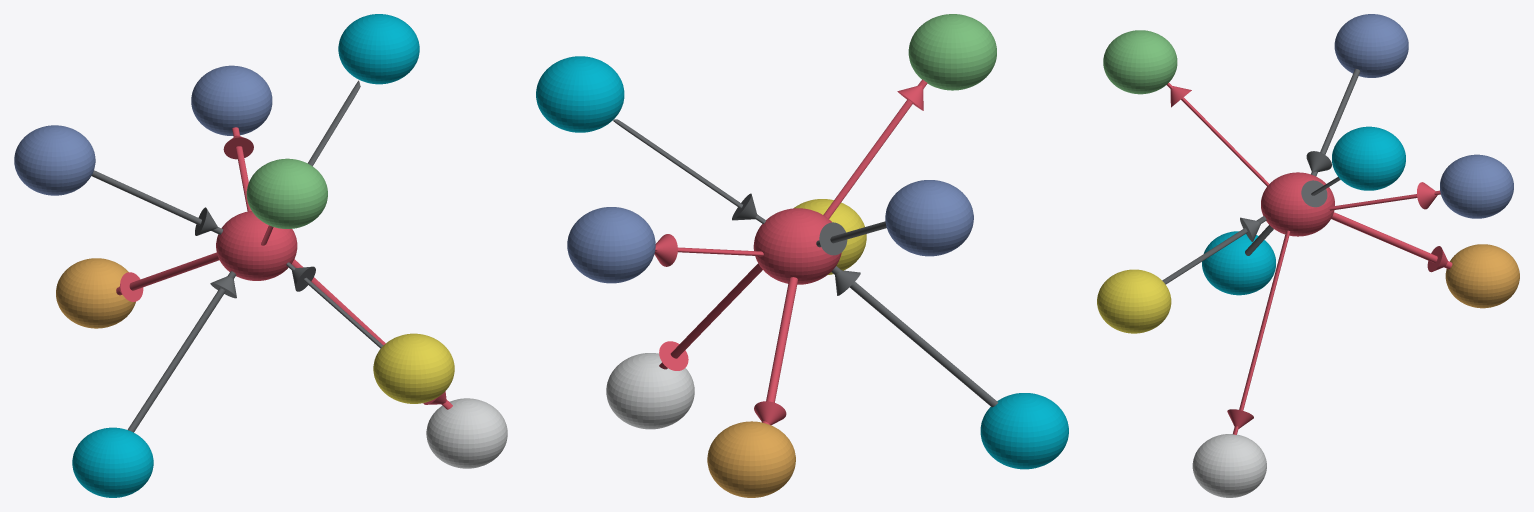
Rendered from graph 3d icon design.glb.
The picture shows the model from 3 angles, left to right: view 1: azimuth 30°, elevation 25°; view 2: azimuth 150°, elevation 25°; view 3: azimuth 270°, elevation 25°; orthographic projection. The views are drawn at different scales.
Parts seen in each view (by area): view 1: Mesh_Mesh_head_geo.001_lambert2SG.001; view 2: Mesh_Mesh_head_geo.001_lambert2SG.001; view 3: Mesh_Mesh_head_geo.001_lambert2SG.001.
Part boxes in pixels (x1=…): Mesh_Mesh_head_geo.001_lambert2SG.001: x1=14, y1=14, x2=507, y2=497; Mesh_Mesh_head_geo.001_lambert2SG.001: x1=536, y1=14, x2=1068, y2=497; Mesh_Mesh_head_geo.001_lambert2SG.001: x1=1097, y1=14, x2=1519, y2=497.
Bounding box in the file's own units: 143 × 128 × 137.
